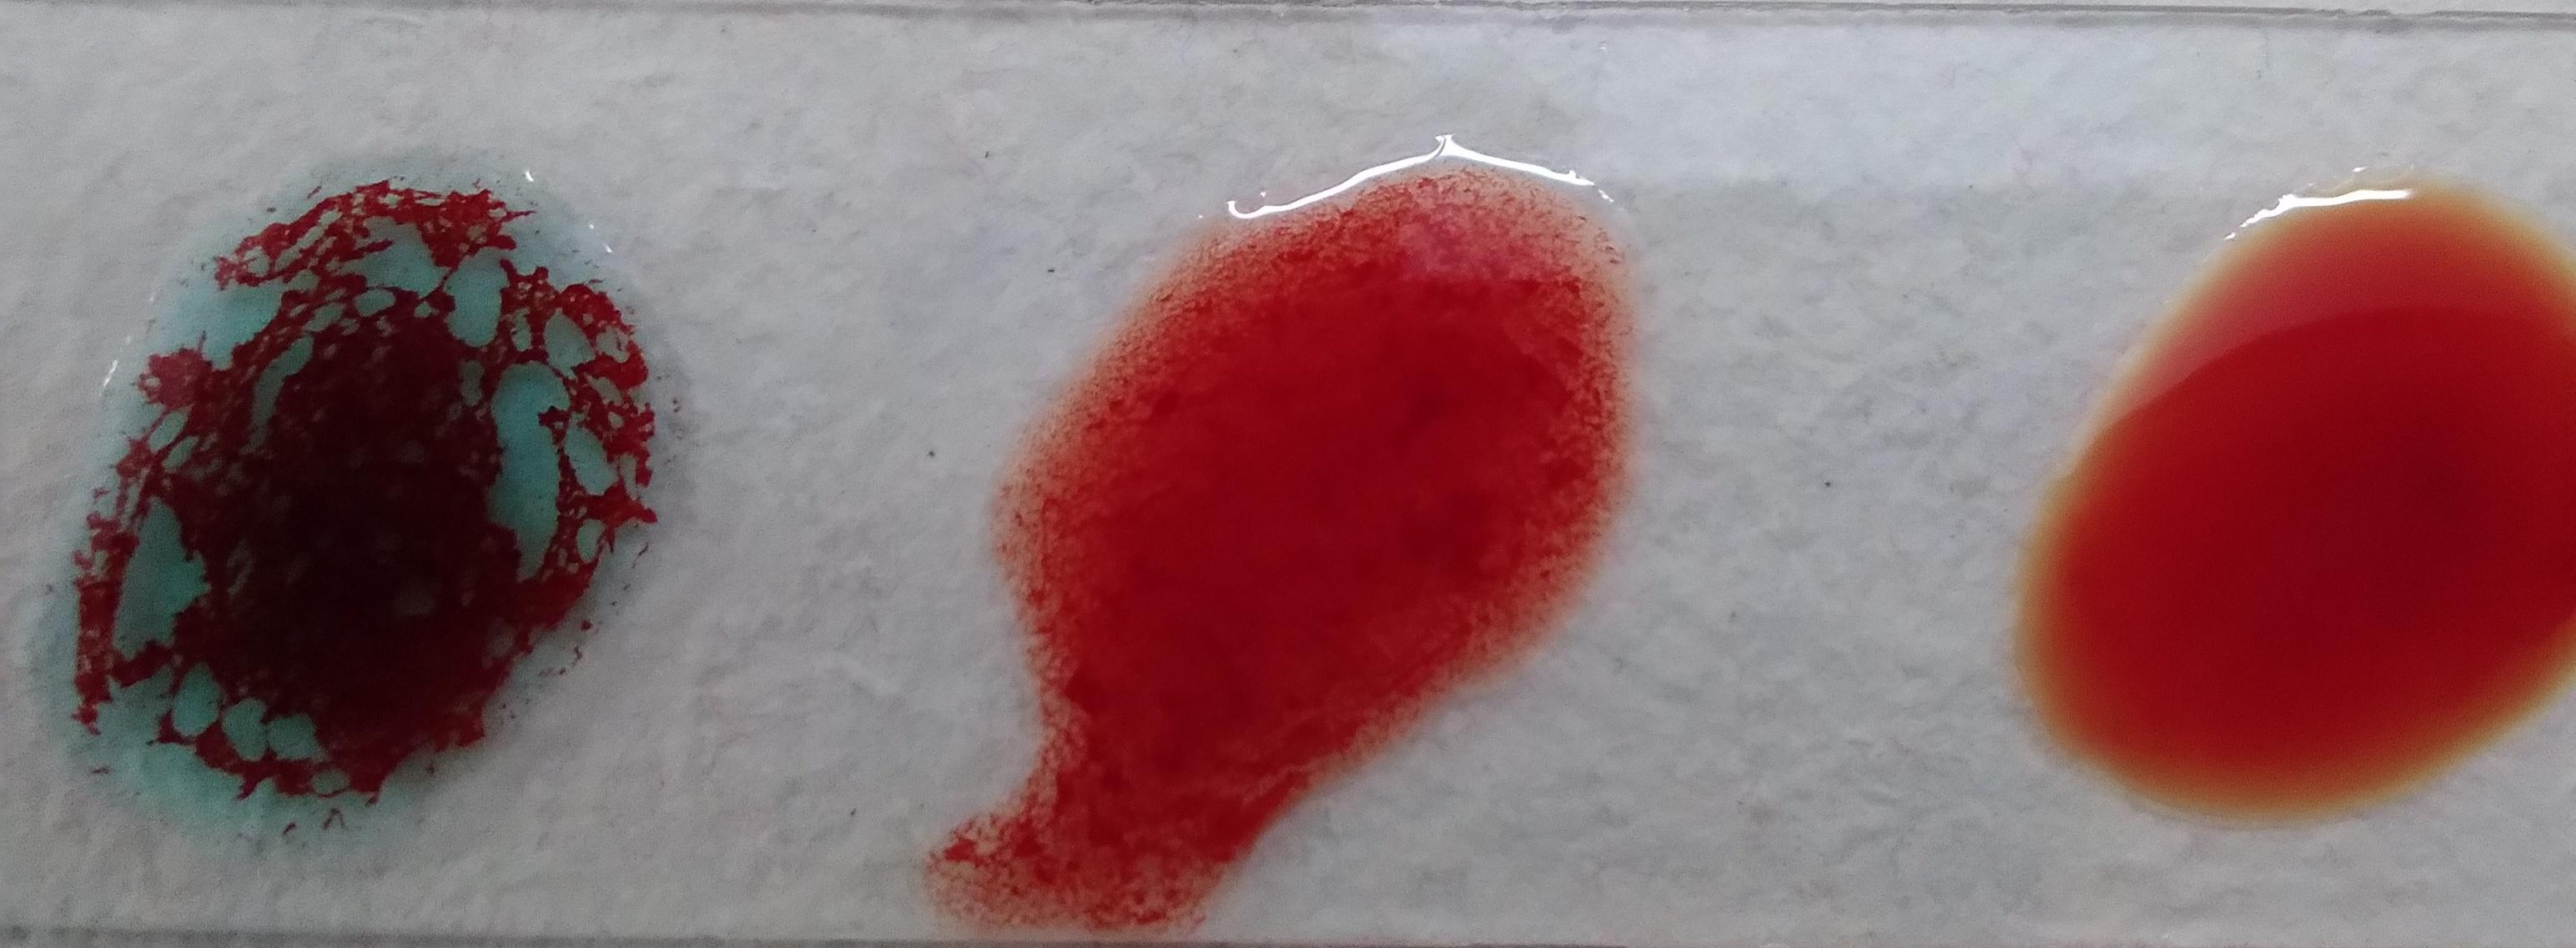A: (1871, 71, 2528, 789)
D: (986, 28, 1574, 792)
